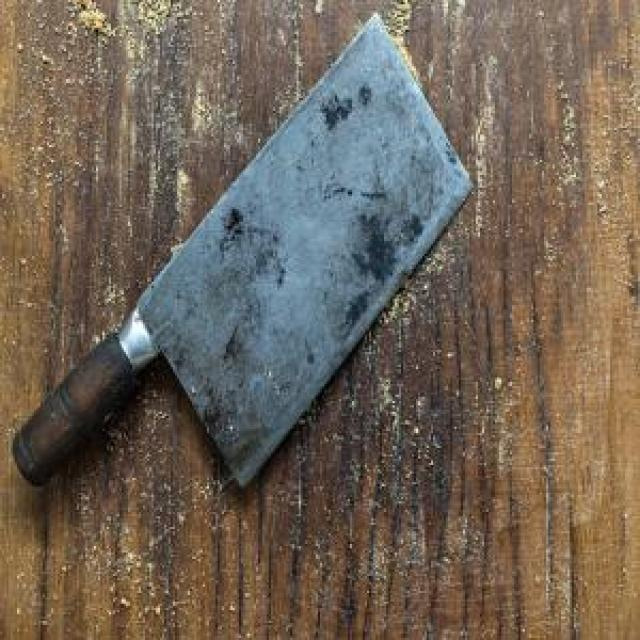knife: (0, 15, 480, 499)
